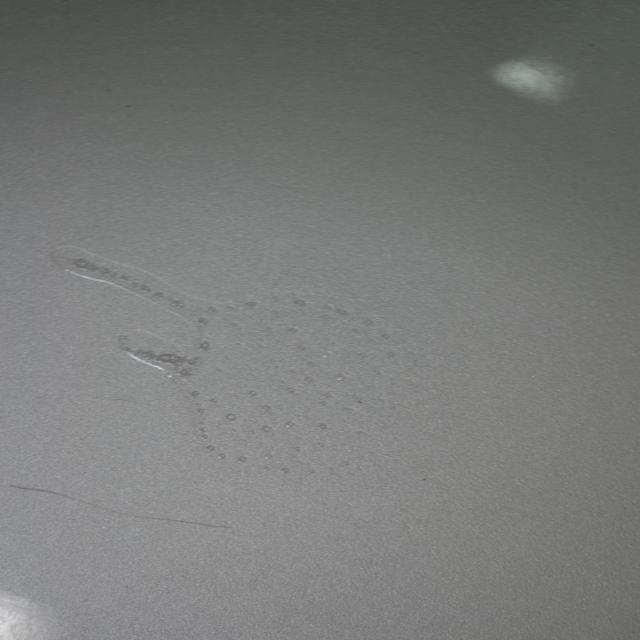runs: (44, 241, 428, 478)
scratch: (0, 474, 235, 531)
